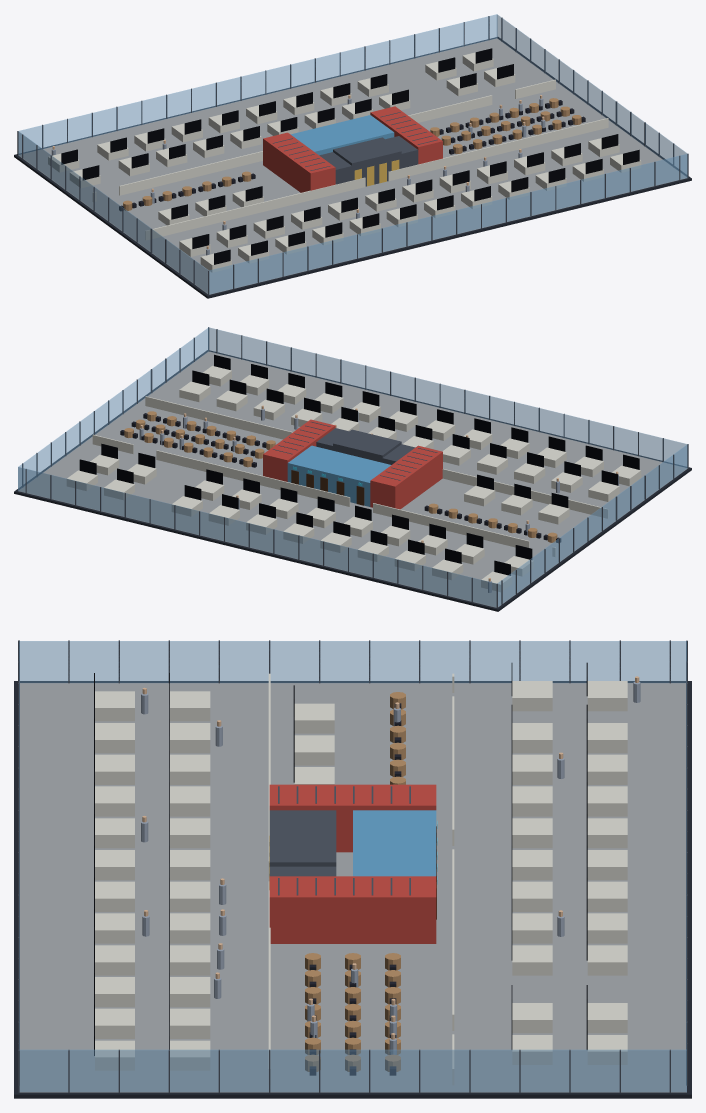
3 renders of one model, top to bottom at view 1: azimuth 30°, elevation 25°; view 2: azimuth 150°, elevation 25°; view 3: azimuth 270°, elevation 25°, orthographic. The views are drawn at different scales.
Visible parts, largest first — view 1: L3_floor_tile, L3_glass, L3_shelf, L3_screen, L3_wall, L3_core, L3_stair, L3_slab, L3_table, L3_wash, L3_chair, L3_role_retail host (+1 smaller); view 2: L3_floor_tile, L3_glass, L3_shelf, L3_screen, L3_wall, L3_core, L3_stair, L3_slab, L3_wash, L3_table, L3_chair, L3_door_closed (+1 smaller); view 3: L3_floor_tile, L3_shelf, L3_glass, L3_stair, L3_core, L3_slab, L3_wash, L3_table, L3_role_retail host, L3_screen, L3_wall, L3_chair.
Part boxes in pixels (<box>): L3_floor_tile: <box>18,38,687,294</box>; L3_glass: <box>18,14,687,294</box>; L3_shelf: <box>48,52,641,272</box>; L3_screen: <box>61,48,639,264</box>; L3_wall: <box>92,79,608,240</box>; L3_core: <box>17,16,688,295</box>; L3_stair: <box>263,106,442,192</box>; L3_slab: <box>14,37,691,298</box>; L3_table: <box>123,98,581,210</box>; L3_wash: <box>291,115,394,155</box>; L3_chair: <box>119,100,585,211</box>; L3_role_retail host: <box>51,98,545,255</box>; L3_floor_tile: <box>18,351,687,607</box>; L3_glass: <box>18,327,687,607</box>; L3_shelf: <box>66,365,641,592</box>; L3_screen: <box>79,354,639,575</box>; L3_wall: <box>92,396,608,556</box>; L3_core: <box>22,327,688,608</box>; L3_stair: <box>263,419,442,509</box>; L3_slab: <box>14,350,691,611</box>; L3_wash: <box>287,445,391,506</box>; L3_table: <box>124,411,557,542</box>; L3_chair: <box>120,413,561,542</box>; L3_door_closed: <box>291,470,364,505</box>; L3_floor_tile: <box>19,683,686,1092</box>; L3_shelf: <box>95,681,627,1070</box>; L3_glass: <box>19,641,686,1092</box>; L3_stair: <box>269,784,436,943</box>; L3_core: <box>18,640,687,1092</box>; L3_slab: <box>14,681,691,1098</box>; L3_wash: <box>353,810,436,876</box>; L3_table: <box>305,692,405,1071</box>; L3_role_retail host: <box>141,681,640,1054</box>; L3_screen: <box>94,662,587,1055</box>; L3_wall: <box>268,673,454,1085</box>; L3_chair: <box>309,703,401,1075</box>.
Size of the model in its own units: 58.6 by 3.37 by 40.6.
